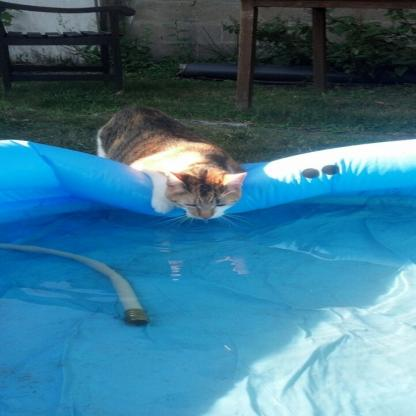Target: (82, 105, 248, 222)
